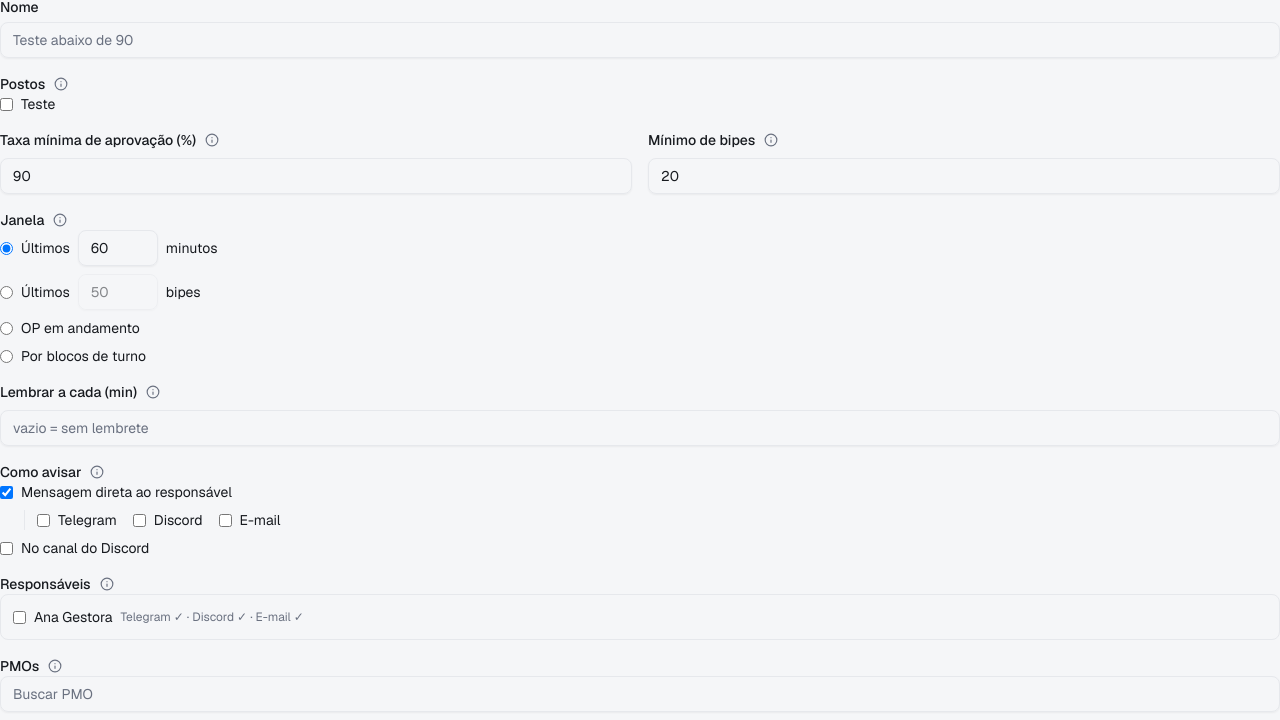
it: RegraForm — janela por blocos: o que sai e o que fica da tela › o lembrete desaparece nessa janela (a validação o ignora) e volta ao sair dela
The width and height of the screenshot is (1280, 720).
Expected: the field labelled "Lembrar a cada (min)" is shown, [0,410,1279,446]
Click the radio button labelled "Por blocos de turno" at (6, 356), box [0,350,13,362]
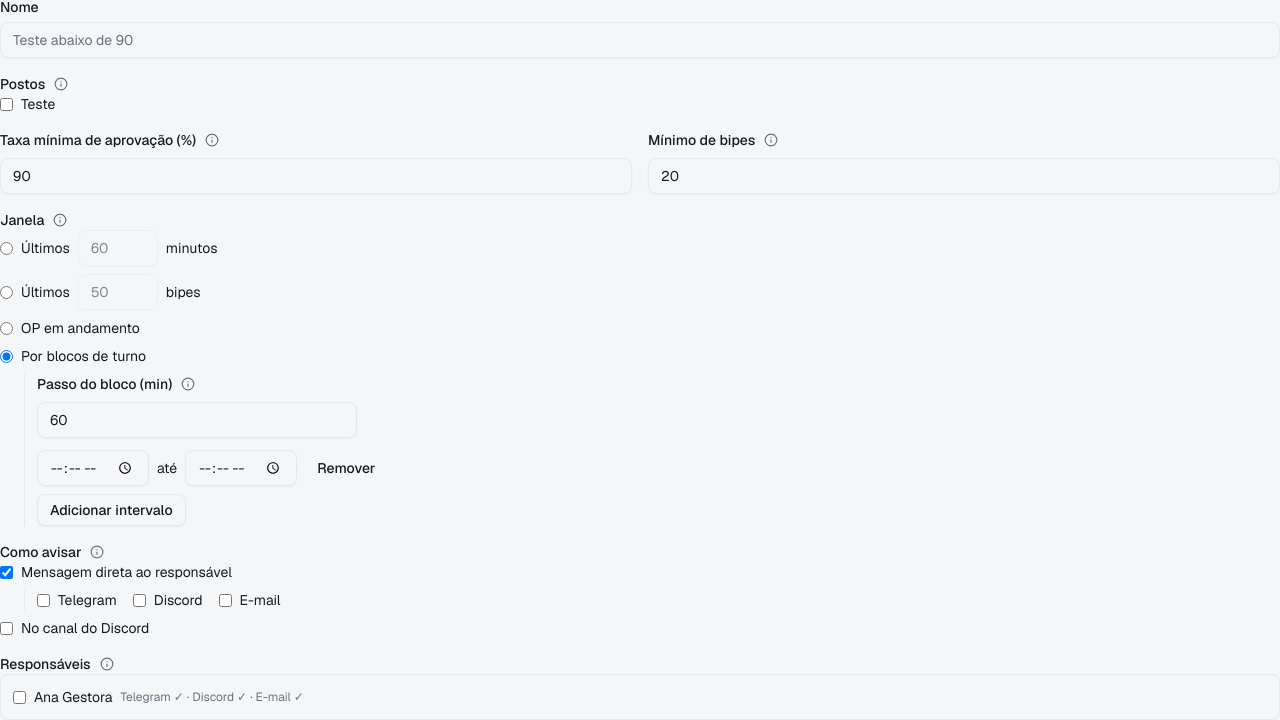
Expected: the label labelled "Lembrar a cada (min)" is gone
Click the radio button named "Janela por tempo" at (6, 248), box [0,242,13,254]
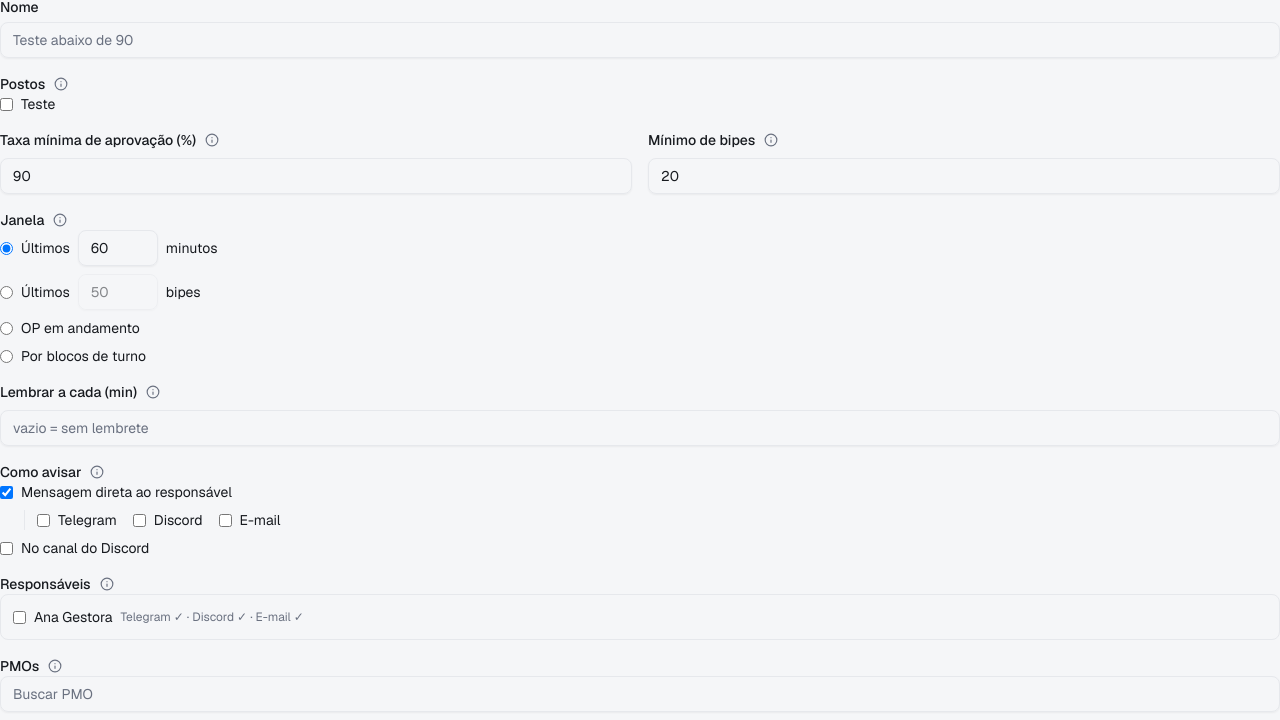
Expected: the field labelled "Lembrar a cada (min)" is shown, [0,410,1279,446]
